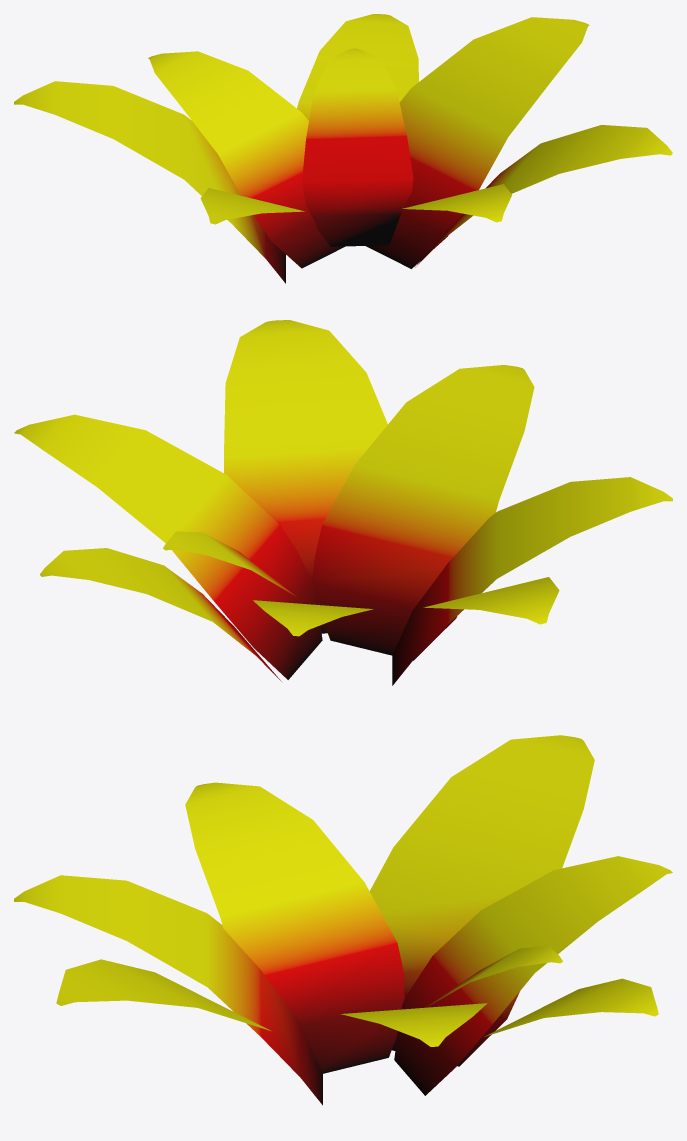
The model's file is Fougere_01.glb.
3 views of the same model, one above another, from view 1: azimuth 30°, elevation 25°; view 2: azimuth 150°, elevation 25°; view 3: azimuth 270°, elevation 25° (orthographic). The views are drawn at different scales.
Visible parts, largest first — view 1: Fougere; view 2: Fougere; view 3: Fougere.
Boxes of the visible parts, <box> form: Fougere: <box>14,14,672,283</box>; Fougere: <box>14,320,672,685</box>; Fougere: <box>14,735,672,1105</box>.
Size of the model in its own units: 2.23 by 0.6899 by 2.03.
